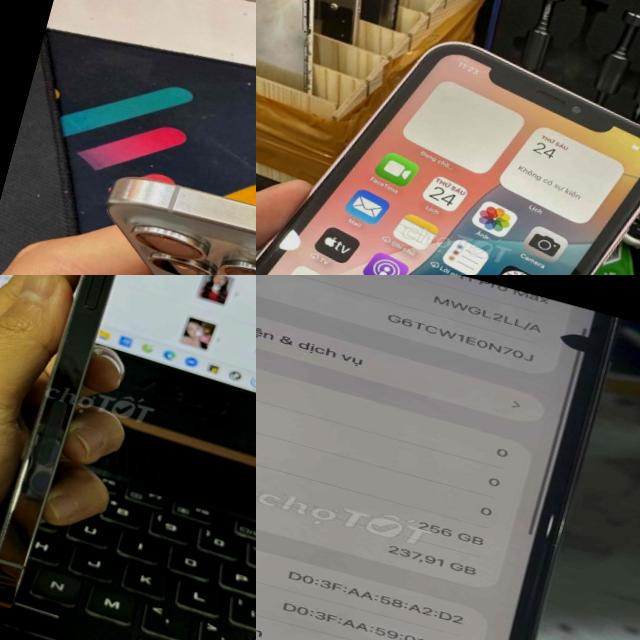gen_11: (256, 275, 628, 640)
gen_12_13: (0, 275, 179, 640)
gen_15: (75, 145, 256, 275)
gen_x_xs: (256, 42, 640, 275)
screen_defect: (548, 315, 622, 371)
